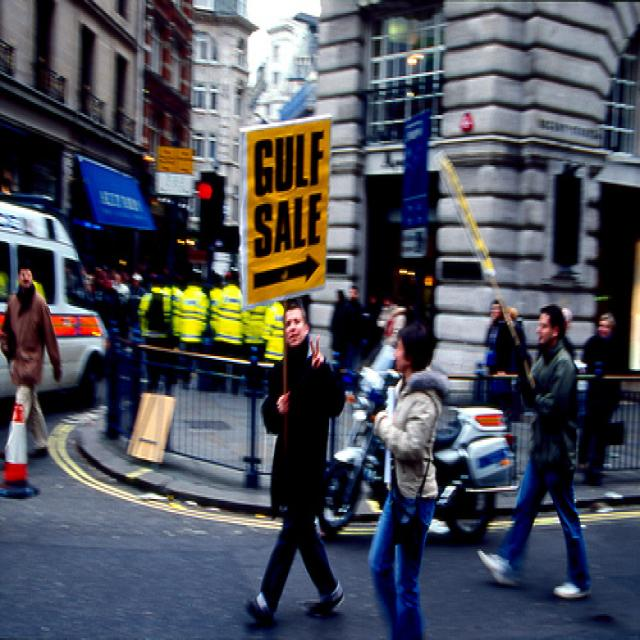motor: (324, 339, 523, 545)
